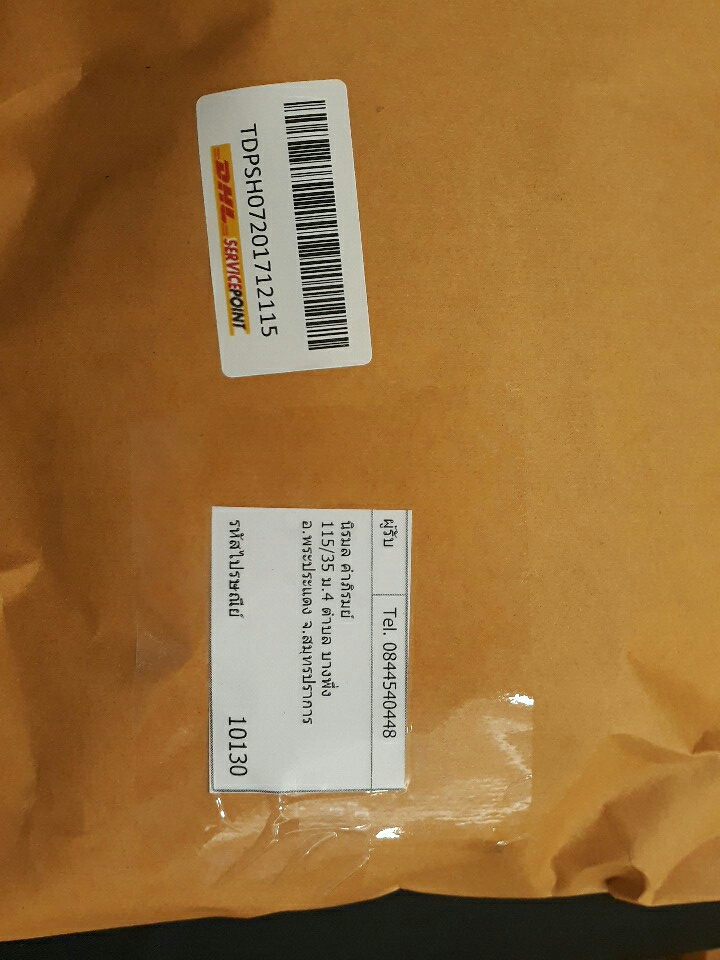ba: (191, 75, 378, 368)
txt: (220, 514, 401, 782)
